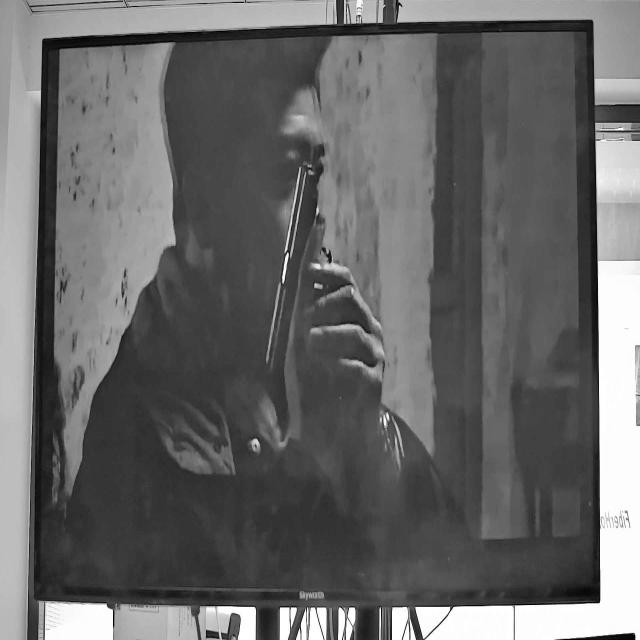Hand-Gun: (211, 44, 419, 519)
